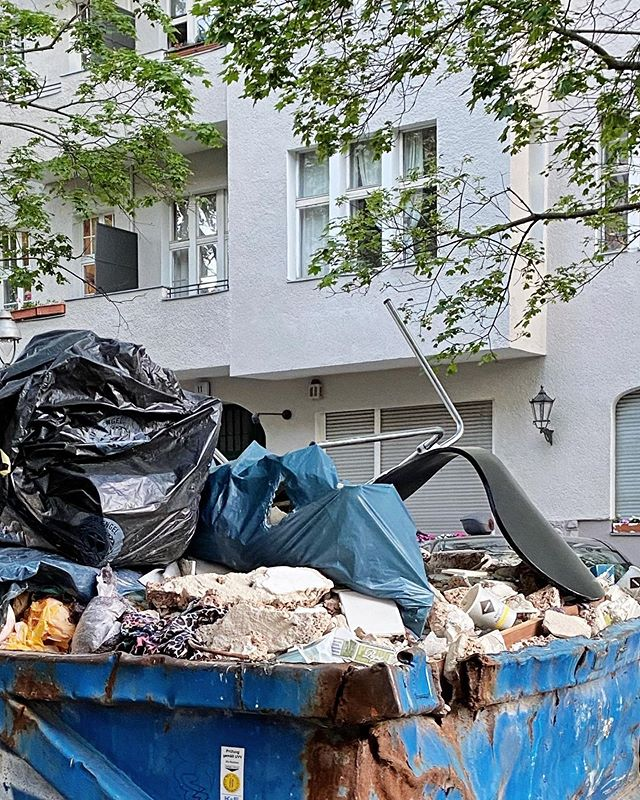building: (3, 1, 623, 489)
trash: (15, 359, 640, 800)
tree: (264, 1, 640, 291), (1, 1, 164, 261)
